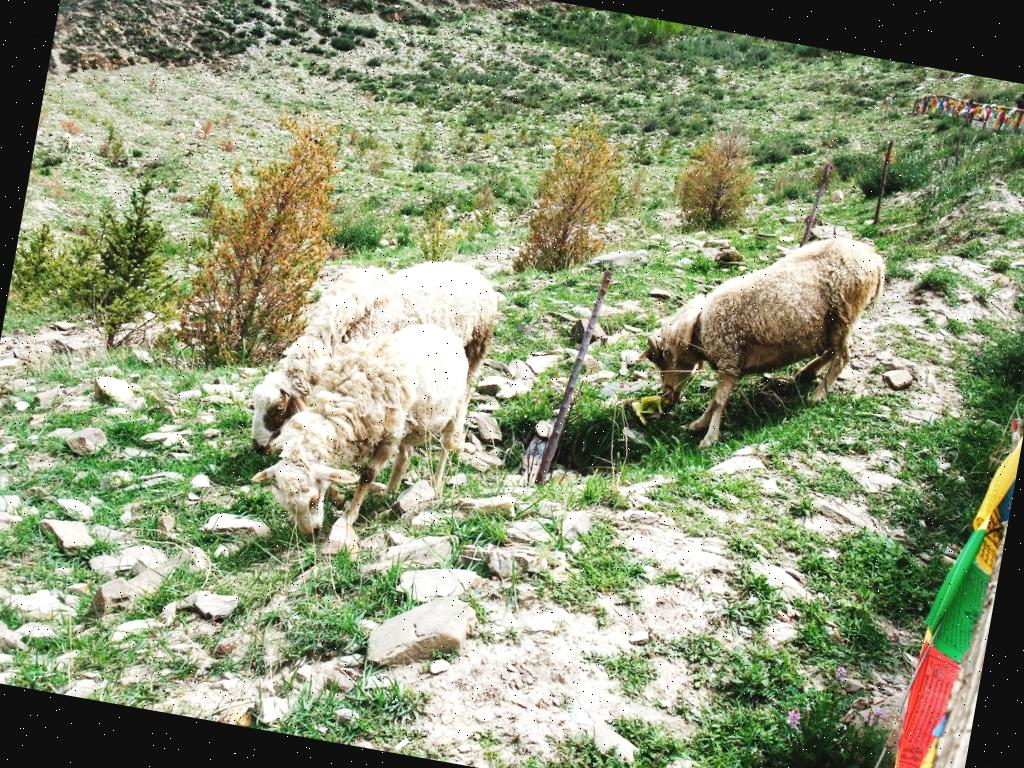Sheep: (623, 203, 894, 477), (242, 232, 507, 491), (240, 304, 480, 564)
